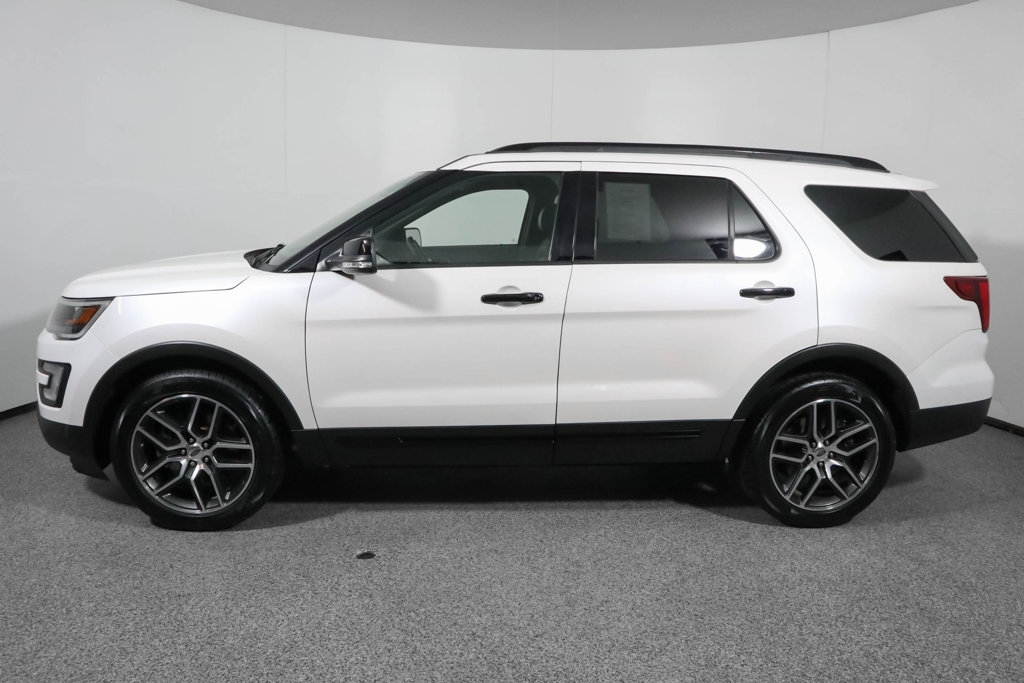Ford Explorer: (35, 141, 998, 531)
